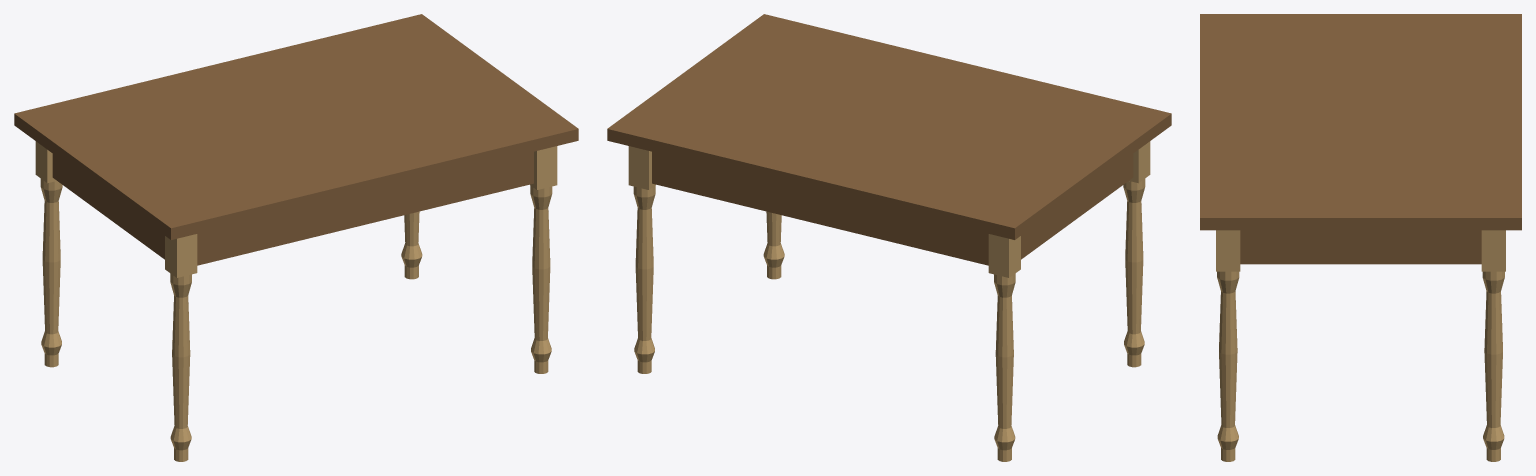
File: FET-KTB-std.glb
3 views of the same model, side by side, from view 1: azimuth 30°, elevation 25°; view 2: azimuth 150°, elevation 25°; view 3: azimuth 270°, elevation 25° (orthographic). The views are drawn at different scales.
Parts seen in each view (by area): view 1: top:pbr, apron-f:pbr, leg-fl:pbr, leg-fr:pbr, leg-bl:pbr, apron-l:pbr, leg-br:pbr; view 2: top:pbr, apron-b:pbr, leg-bl:pbr, leg-br:pbr, leg-fl:pbr, apron-l:pbr, leg-fr:pbr; view 3: top:pbr, apron-r:pbr, leg-fr:pbr, leg-br:pbr.
Boxes of the visible parts, x1=… form: top:pbr: x1=14, y1=14, x2=578, y2=239; apron-f:pbr: x1=197, y1=151, x2=533, y2=265; leg-fl:pbr: x1=165, y1=234, x2=197, y2=461; leg-fr:pbr: x1=530, y1=146, x2=557, y2=373; leg-bl:pbr: x1=35, y1=141, x2=62, y2=367; apron-l:pbr: x1=52, y1=154, x2=164, y2=259; leg-br:pbr: x1=401, y1=211, x2=422, y2=279; top:pbr: x1=607, y1=14, x2=1171, y2=239; apron-b:pbr: x1=652, y1=151, x2=988, y2=265; leg-bl:pbr: x1=988, y1=234, x2=1020, y2=461; leg-br:pbr: x1=628, y1=146, x2=655, y2=373; leg-fl:pbr: x1=1123, y1=141, x2=1150, y2=367; apron-l:pbr: x1=1021, y1=154, x2=1133, y2=259; leg-fr:pbr: x1=763, y1=211, x2=784, y2=279; top:pbr: x1=1200, y1=14, x2=1521, y2=230; apron-r:pbr: x1=1240, y1=230, x2=1481, y2=264; leg-fr:pbr: x1=1216, y1=230, x2=1240, y2=461; leg-br:pbr: x1=1481, y1=230, x2=1505, y2=461.
Size of the model in its own units: 0.9 by 0.52 by 0.6.
